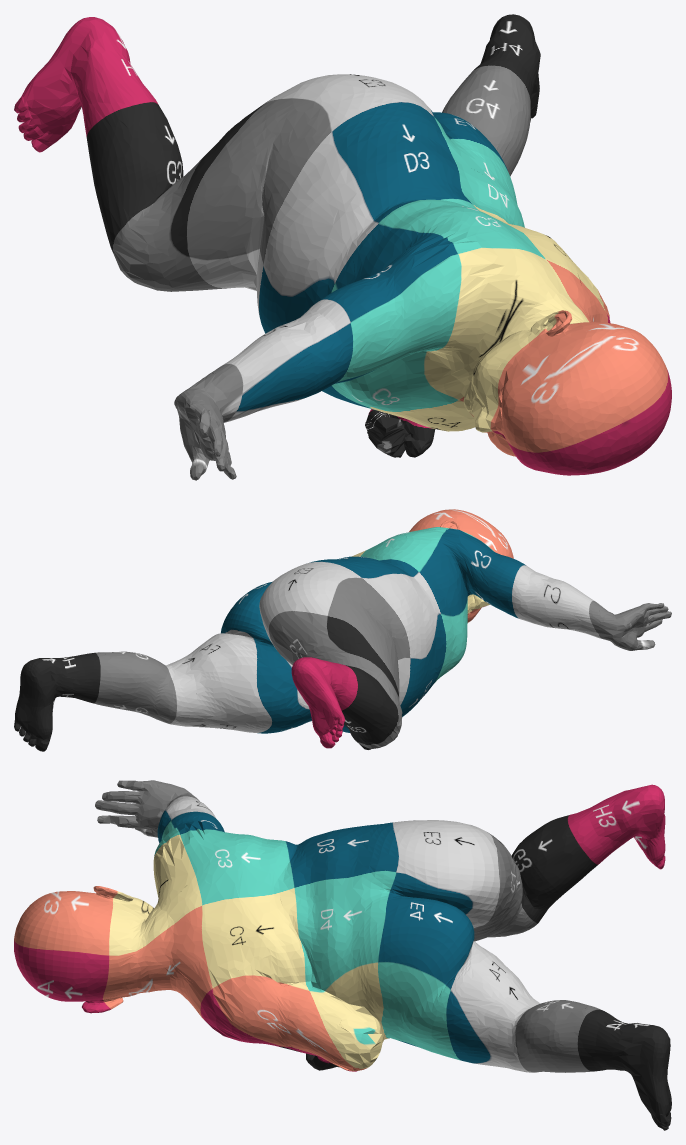
File: kid00-kid24.obj
The picture shows the model from 3 angles, top to bottom: view 1: azimuth 30°, elevation 25°; view 2: azimuth 150°, elevation 25°; view 3: azimuth 270°, elevation 25°; orthographic projection. The views are drawn at different scales.
Visible parts, largest first — view 1: kid00-kid24_export; view 2: kid00-kid24_export; view 3: kid00-kid24_export.
Boxes of the visible parts, x1,y1,x2,y2 form: kid00-kid24_export: [14, 14, 671, 480]; kid00-kid24_export: [14, 509, 671, 751]; kid00-kid24_export: [14, 780, 671, 1130].
Bounding box in the file's own units: 0.8594 × 0.3813 × 0.9196.
1 material, 1 textured.
